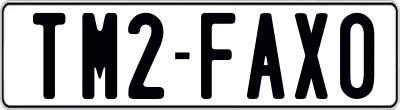0: (340, 12, 375, 99)
2: (126, 11, 166, 98)
A: (246, 10, 288, 98)
F: (201, 12, 240, 103)
M: (80, 13, 115, 99)
T: (32, 11, 66, 100)
X: (294, 10, 328, 97)
